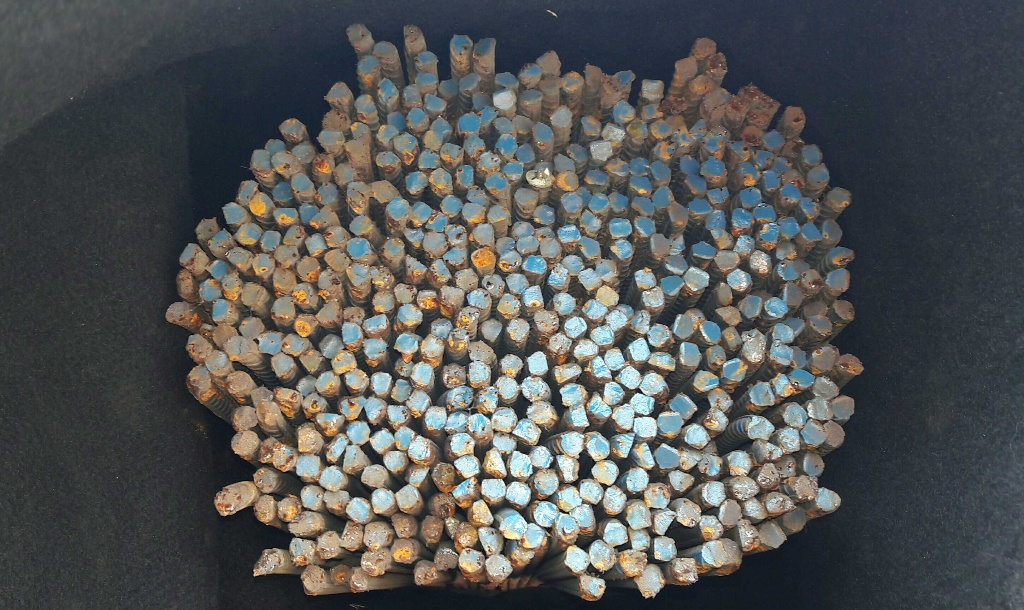dipstick: (589, 540, 616, 570), (360, 549, 391, 575), (253, 547, 285, 572), (468, 414, 492, 446), (485, 554, 513, 581), (635, 564, 663, 591), (738, 520, 762, 551), (584, 432, 609, 461), (602, 486, 627, 515), (761, 519, 786, 548), (729, 476, 760, 499), (289, 513, 321, 535), (213, 488, 239, 515), (478, 527, 504, 554), (620, 550, 647, 576), (230, 405, 258, 430), (702, 540, 727, 568), (340, 521, 364, 550), (565, 545, 589, 574), (556, 514, 580, 543), (315, 413, 346, 435), (645, 482, 671, 508), (675, 500, 701, 526), (317, 532, 342, 559), (455, 477, 480, 504), (592, 460, 619, 485), (627, 503, 652, 530), (254, 495, 278, 523), (498, 515, 526, 539), (766, 491, 797, 512), (186, 366, 212, 391), (513, 418, 539, 443), (458, 548, 484, 573), (536, 52, 562, 77), (670, 393, 696, 418), (579, 575, 605, 600), (290, 538, 314, 565), (391, 513, 418, 537), (484, 450, 508, 477), (641, 373, 668, 397), (671, 558, 698, 582), (322, 110, 350, 133), (432, 462, 457, 487), (519, 522, 544, 547), (187, 335, 211, 361), (319, 467, 345, 491), (347, 181, 371, 207), (654, 444, 680, 468), (750, 382, 776, 406), (747, 416, 773, 440), (801, 421, 827, 445), (776, 427, 800, 453), (223, 337, 250, 360), (231, 431, 258, 454), (362, 465, 389, 488), (510, 451, 533, 478), (837, 353, 864, 376), (754, 439, 781, 462), (557, 454, 579, 482), (254, 468, 278, 493), (347, 497, 371, 522), (371, 488, 395, 513), (492, 407, 517, 431), (497, 293, 521, 318), (430, 493, 455, 517), (534, 501, 558, 526), (557, 487, 581, 512), (658, 412, 683, 436), (769, 341, 794, 365), (783, 403, 807, 428), (319, 334, 345, 357), (302, 565, 325, 591), (414, 559, 437, 585), (339, 396, 365, 419), (632, 443, 655, 469), (420, 515, 442, 542), (343, 446, 365, 473), (363, 396, 385, 423), (292, 141, 316, 165), (364, 523, 388, 547), (522, 376, 546, 400), (578, 212, 602, 236), (812, 347, 836, 371), (277, 497, 300, 522), (301, 485, 324, 510), (409, 436, 432, 461), (347, 262, 370, 287), (442, 363, 465, 388), (454, 268, 479, 291), (450, 434, 475, 457), (535, 470, 558, 495), (627, 338, 650, 363), (589, 395, 612, 420), (700, 515, 723, 540), (703, 481, 726, 506), (280, 334, 306, 356), (273, 386, 299, 408), (297, 428, 319, 454), (407, 389, 429, 415), (447, 387, 473, 409), (533, 310, 559, 332), (559, 383, 585, 405), (573, 338, 599, 360), (616, 366, 642, 388), (822, 421, 844, 447), (757, 463, 779, 489), (271, 150, 298, 171), (553, 363, 581, 383), (250, 193, 273, 217), (208, 230, 231, 254), (272, 296, 295, 320), (239, 316, 263, 339), (299, 350, 323, 373), (316, 372, 340, 395), (396, 485, 420, 508), (370, 429, 394, 452), (507, 318, 530, 342), (496, 376, 519, 400), (506, 482, 530, 505), (529, 446, 553, 469), (387, 198, 410, 222), (449, 35, 473, 58), (430, 169, 453, 193), (589, 358, 612, 382), (698, 321, 721, 345), (579, 480, 603, 503), (570, 504, 594, 527), (603, 523, 627, 546), (626, 467, 649, 491), (727, 451, 750, 475), (708, 388, 732, 411), (827, 188, 851, 211), (826, 268, 850, 291), (817, 488, 841, 511), (782, 508, 806, 531), (279, 118, 304, 140), (236, 179, 258, 204), (166, 301, 191, 323), (271, 353, 293, 378), (331, 351, 356, 373), (375, 151, 400, 173), (472, 222, 494, 247), (684, 267, 709, 289), (654, 536, 676, 561), (719, 500, 741, 525), (723, 360, 748, 382), (737, 162, 759, 187), (324, 249, 350, 270), (324, 489, 350, 510), (704, 88, 730, 109), (607, 239, 635, 258), (273, 269, 296, 292), (295, 314, 318, 337), (227, 371, 250, 394), (347, 421, 370, 444), (446, 410, 469, 433), (424, 233, 447, 256), (561, 432, 584, 455), (564, 316, 587, 339), (611, 434, 634, 457), (327, 82, 351, 104), (275, 245, 299, 267), (213, 325, 237, 347), (296, 455, 320, 477), (315, 301, 339, 323), (381, 238, 405, 260), (477, 387, 499, 411), (471, 249, 495, 271), (498, 250, 522, 272), (612, 405, 634, 429), (685, 425, 709, 447), (704, 409, 728, 431), (808, 315, 832, 337), (813, 377, 837, 399), (795, 476, 817, 500), (226, 248, 251, 269), (260, 437, 281, 462), (273, 446, 294, 471), (362, 338, 387, 359), (397, 304, 422, 325), (455, 455, 480, 476), (473, 501, 494, 526), (410, 201, 431, 226), (694, 370, 719, 391), (669, 470, 694, 491), (808, 399, 833, 420), (221, 273, 241, 299), (651, 232, 671, 258), (716, 306, 742, 326), (648, 352, 675, 371), (180, 243, 203, 265), (206, 350, 228, 373), (371, 265, 393, 288), (481, 319, 503, 342), (494, 432, 516, 455), (406, 108, 429, 130), (463, 135, 485, 158), (548, 333, 571, 355), (520, 63, 543, 85), (628, 527, 650, 550), (654, 511, 676, 534), (698, 453, 721, 475), (739, 295, 762, 317), (777, 216, 799, 239), (750, 250, 772, 273), (802, 269, 824, 292), (345, 238, 369, 259), (411, 362, 432, 386), (349, 215, 373, 236), (527, 352, 548, 376), (335, 162, 356, 186), (504, 273, 528, 294), (612, 101, 636, 122), (629, 174, 653, 195), (648, 323, 669, 347), (673, 314, 694, 338), (727, 270, 751, 291), (716, 251, 740, 272), (701, 158, 725, 179), (778, 259, 802, 280), (743, 340, 764, 364), (833, 395, 854, 419), (318, 131, 343, 151), (588, 325, 613, 345), (522, 255, 548, 274), (788, 370, 814, 389), (298, 257, 320, 279), (253, 253, 275, 275), (392, 540, 414, 562), (446, 225, 468, 247), (372, 181, 394, 203), (553, 293, 575, 315), (495, 134, 517, 156), (550, 105, 572, 127), (602, 123, 624, 145), (237, 223, 260, 244), (305, 234, 326, 257), (212, 300, 233, 323), (257, 402, 280, 423), (303, 395, 326, 416), (440, 285, 463, 306), (500, 354, 521, 377), (527, 402, 550, 423), (440, 196, 463, 217), (561, 71, 584, 92), (604, 347, 625, 370), (799, 196, 820, 219), (821, 219, 842, 242), (772, 323, 795, 344), (290, 173, 314, 193), (346, 369, 370, 389), (372, 372, 392, 396), (426, 406, 446, 430), (346, 24, 370, 44), (378, 79, 398, 103), (485, 172, 509, 192), (492, 89, 516, 109), (649, 119, 673, 139), (667, 203, 687, 227), (785, 107, 805, 131), (764, 297, 788, 317), (394, 334, 419, 353), (468, 342, 493, 361), (403, 84, 422, 109), (582, 299, 607, 318), (199, 279, 221, 300), (293, 283, 315, 304), (259, 333, 280, 355), (384, 451, 406, 472), (391, 379, 412, 401), (421, 335, 443, 356), (404, 255, 426, 276), (469, 361, 490, 383), (483, 275, 504, 297), (474, 37, 496, 58), (394, 133, 416, 154), (459, 112, 480, 134), (560, 192, 582, 213), (579, 237, 600, 259), (596, 285, 618, 306), (630, 311, 651, 333), (603, 381, 625, 402), (801, 144, 822, 166), (833, 300, 855, 321), (772, 375, 794, 396), (242, 282, 262, 305), (372, 292, 395, 312), (482, 479, 505, 499), (374, 41, 397, 61), (405, 172, 428, 192), (569, 406, 589, 429), (556, 170, 579, 190), (590, 141, 613, 161), (653, 186, 673, 209), (609, 217, 632, 237), (634, 417, 657, 437), (722, 327, 742, 350), (684, 175, 707, 195), (784, 283, 804, 306), (804, 453, 824, 476), (467, 289, 491, 308), (414, 72, 438, 91), (552, 154, 576, 173), (829, 247, 853, 266), (176, 268, 194, 293), (584, 169, 609, 187), (514, 188, 540, 205), (222, 202, 243, 223), (549, 268, 570, 289), (540, 239, 561, 260), (532, 122, 553, 143), (579, 268, 600, 289), (642, 286, 663, 307), (807, 164, 828, 185), (251, 150, 271, 172), (316, 183, 338, 203), (196, 218, 218, 238), (296, 375, 318, 395), (395, 427, 415, 449), (431, 318, 453, 338), (432, 259, 452, 281), (345, 139, 367, 159), (441, 144, 463, 164), (562, 255, 584, 275), (533, 205, 555, 225), (566, 144, 588, 164), (675, 57, 697, 77), (606, 310, 626, 332), (662, 275, 684, 295), (731, 209, 753, 229), (763, 130, 785, 150), (754, 204, 776, 224), (312, 207, 335, 226), (435, 550, 458, 569), (462, 203, 485, 222), (524, 285, 543, 308), (631, 196, 654, 215), (680, 343, 699, 366), (424, 93, 448, 111), (557, 225, 581, 243), (707, 346, 725, 370), (584, 64, 602, 88), (330, 565, 350, 586), (364, 314, 385, 334), (422, 131, 443, 151), (581, 115, 601, 136), (601, 76, 621, 97), (650, 161, 671, 181), (595, 259, 615, 280), (705, 210, 725, 231), (741, 188, 762, 208), (250, 387, 272, 406), (341, 321, 360, 343), (478, 152, 500, 171), (634, 269, 656, 288), (715, 282, 734, 304), (394, 284, 417, 302), (487, 205, 510, 223), (519, 89, 542, 107), (663, 256, 686, 274), (273, 208, 297, 225), (691, 242, 715, 259), (273, 181, 293, 201), (418, 290, 438, 310), (642, 79, 662, 99), (780, 184, 800, 204), (314, 154, 335, 173), (460, 73, 481, 92), (377, 125, 398, 144), (607, 158, 628, 177), (707, 53, 726, 74), (743, 126, 764, 145), (517, 236, 539, 254), (628, 157, 650, 175), (633, 217, 655, 235), (728, 96, 750, 114), (299, 204, 318, 224), (260, 231, 280, 250), (325, 227, 345, 246), (516, 144, 535, 164), (695, 38, 715, 57), (589, 193, 609, 212), (608, 192, 628, 211), (762, 171, 781, 191), (730, 142, 749, 162), (283, 226, 304, 244), (318, 270, 339, 288), (418, 150, 439, 168), (494, 117, 515, 135), (800, 223, 821, 241), (388, 405, 410, 422), (457, 165, 474, 187), (653, 141, 675, 158), (707, 187, 729, 204), (495, 72, 518, 88), (208, 260, 227, 279), (450, 329, 468, 349), (387, 112, 405, 132), (628, 120, 648, 138), (688, 198, 712, 213), (503, 163, 524, 180), (512, 222, 534, 238), (702, 136, 724, 152), (415, 51, 438, 66), (355, 94, 373, 113), (440, 79, 458, 98), (358, 56, 378, 73), (351, 121, 369, 139), (404, 24, 420, 44), (641, 105, 663, 119)
